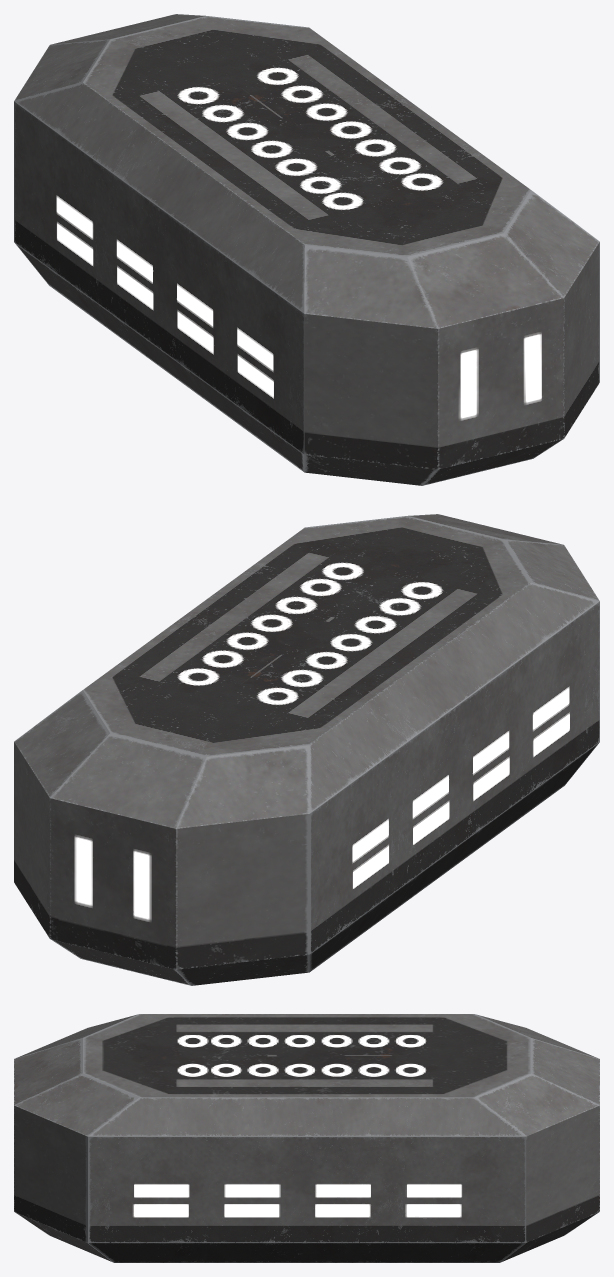
Rendered from bridge_m_3.fbx.
3 views of the same model, one above another, from view 1: azimuth 30°, elevation 25°; view 2: azimuth 150°, elevation 25°; view 3: azimuth 270°, elevation 25° (orthographic). The views are drawn at different scales.
Visible parts, largest first — view 1: bridge_m_3; view 2: bridge_m_3; view 3: bridge_m_3.
Part boxes in pixels (bbox=[...]): bridge_m_3: bbox=[14, 14, 599, 485]; bridge_m_3: bbox=[14, 514, 599, 985]; bridge_m_3: bbox=[14, 1014, 599, 1262].
Size of the model in its own units: 8.8 by 6 by 20.
